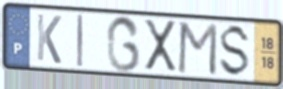G: (105, 14, 142, 74)
I: (75, 12, 85, 69)
K: (35, 11, 63, 66)
M: (175, 20, 219, 78)
S: (217, 23, 253, 79)
X: (142, 17, 179, 73)
